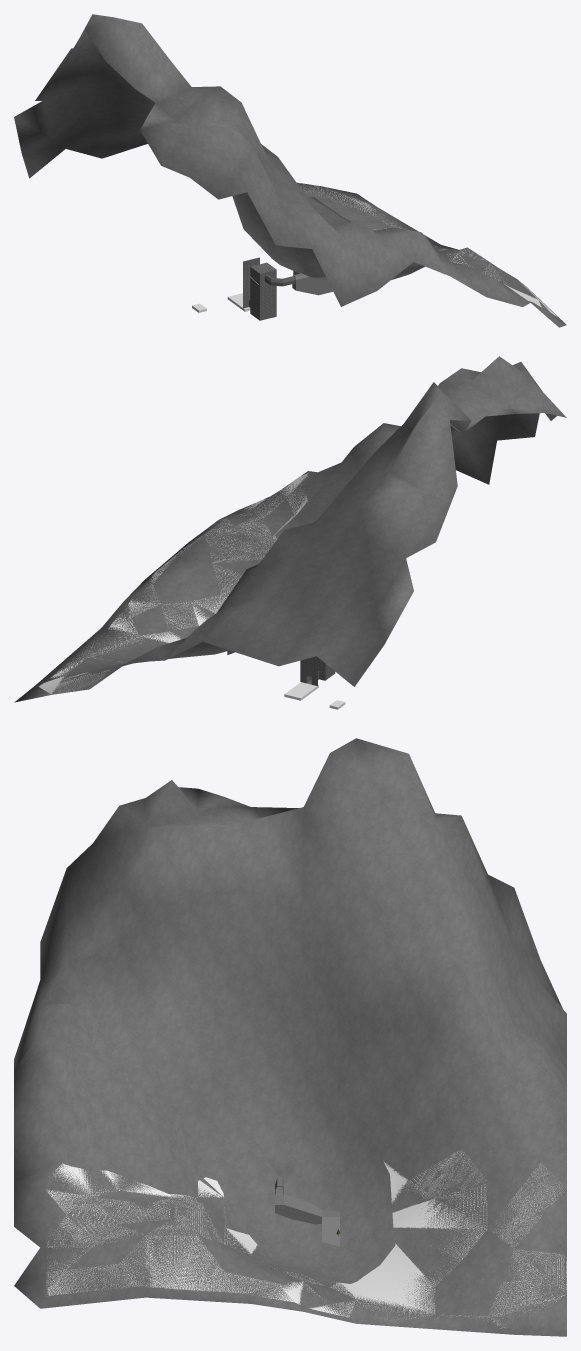
3 renders of one model, top to bottom at view 1: azimuth 30°, elevation 25°; view 2: azimuth 150°, elevation 25°; view 3: azimuth 270°, elevation 25°, orthographic. The views are drawn at different scales.
Parts seen in each view (by area): view 1: Landscape, Cube.003, TreeMesh, Cube.002; view 2: Landscape, TreeMesh, Cube.003, Cube.001; view 3: Landscape, TreeMesh, Cube.002.
Boxes of the visible parts, bbox=[...] form: Landscape: bbox=[14, 14, 566, 327]; Cube.003: bbox=[243, 257, 276, 320]; TreeMesh: bbox=[298, 183, 557, 316]; Cube.002: bbox=[292, 271, 332, 295]; Landscape: bbox=[14, 356, 566, 702]; TreeMesh: bbox=[38, 472, 308, 694]; Cube.003: bbox=[300, 656, 335, 685]; Cube.001: bbox=[284, 682, 345, 709]; Landscape: bbox=[14, 738, 566, 1336]; TreeMesh: bbox=[46, 1150, 566, 1328]; Cube.002: bbox=[275, 1177, 339, 1246].
Bounding box in the file's own units: 324 × 272 × 340.
Materials: 6 (5 with a texture image).
